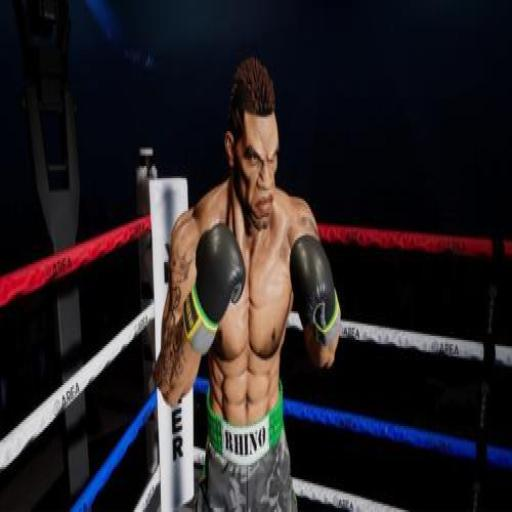boxing: (150, 53, 342, 510)
